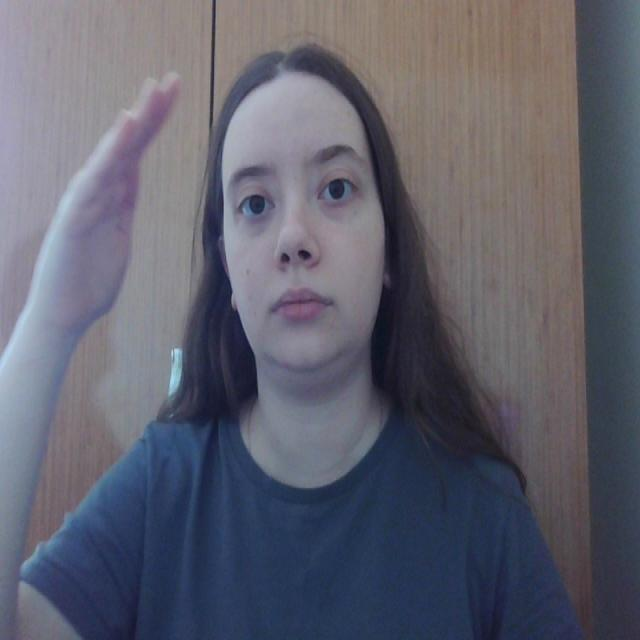Merhaba: (37, 61, 262, 375)
